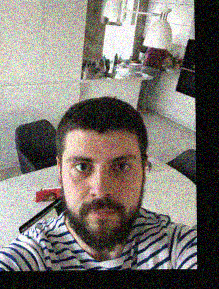without_mask: (62, 142, 142, 251)
